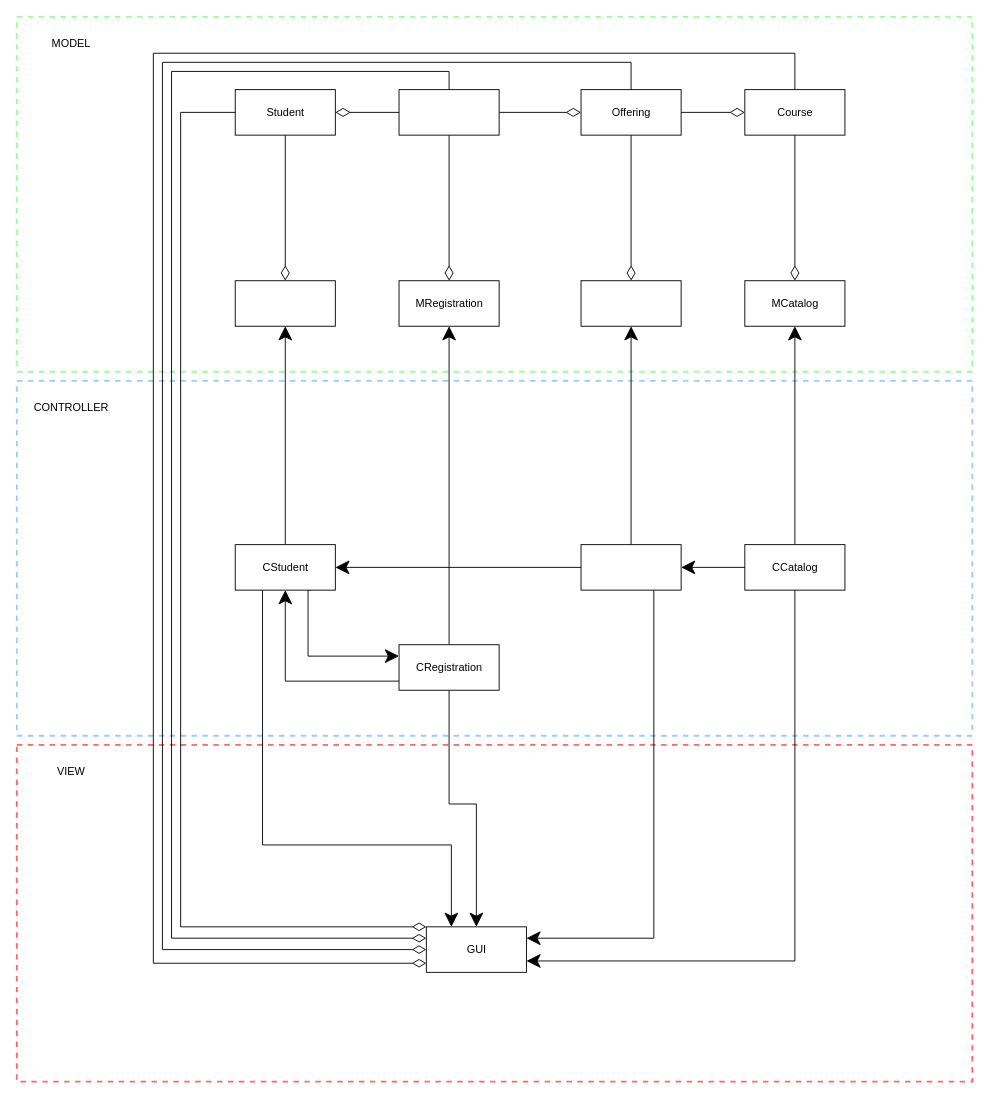
This 988x1097 diagram has some shape labels left out. The centre of each missing label's shape, as x and y in pixels:
"COffering" goes at point 630,567.
"MOffering" goes at point 630,303.
"MStudent" goes at point 284,303.
"Registration" goes at point 448,112.
